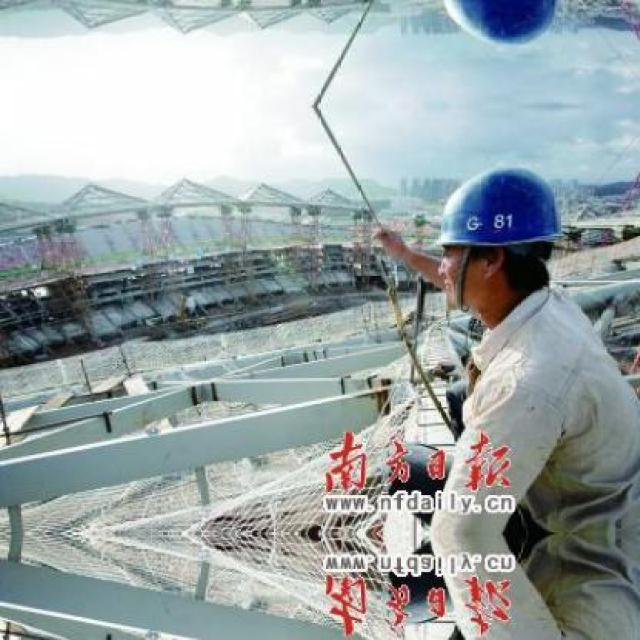helmet: (423, 146, 571, 324), (423, 0, 572, 66)
